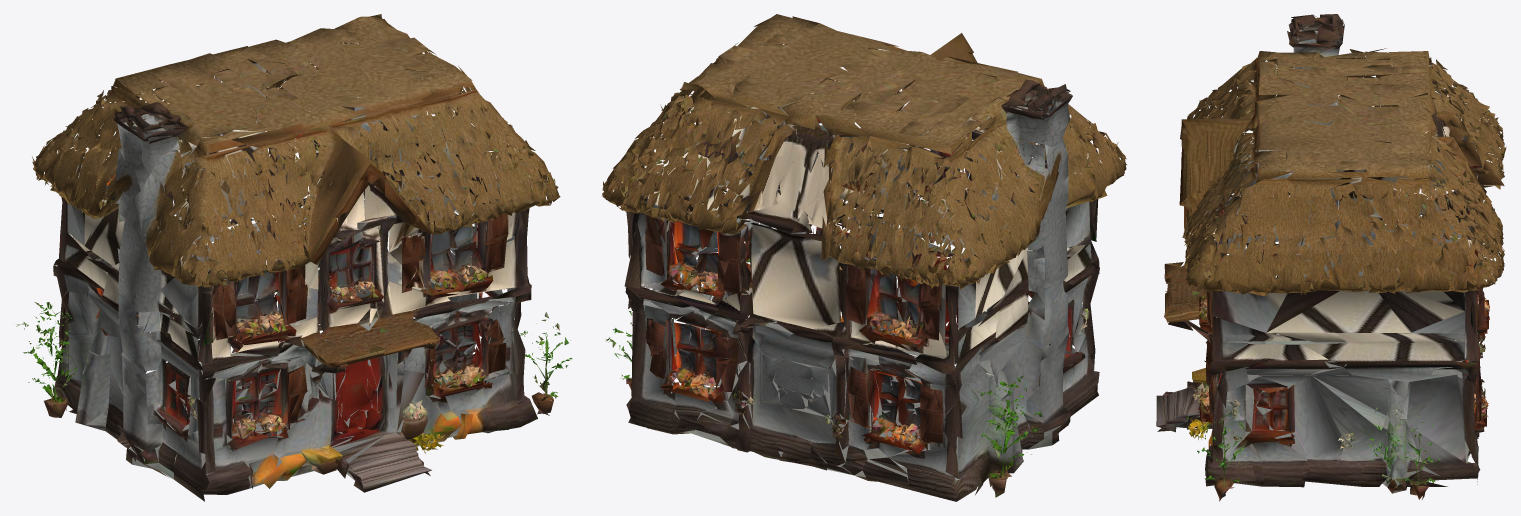
Rendered from Rpg_house_town.glb.
3 views of the same model, side by side, from view 1: azimuth 30°, elevation 25°; view 2: azimuth 150°, elevation 25°; view 3: azimuth 270°, elevation 25° (orthographic). The views are drawn at different scales.
Parts seen in each view (by area): view 1: Rpg_house; view 2: Rpg_house; view 3: Rpg_house.
Boxes of the visible parts, x1,y1,x2,y2 form: Rpg_house: (16,14,572,501); Rpg_house: (602,14,1126,501); Rpg_house: (1156,14,1506,501).
Size of the model in its own units: 1.88 by 1.47 by 1.43.
Materials: 1 (1 with a texture image).
